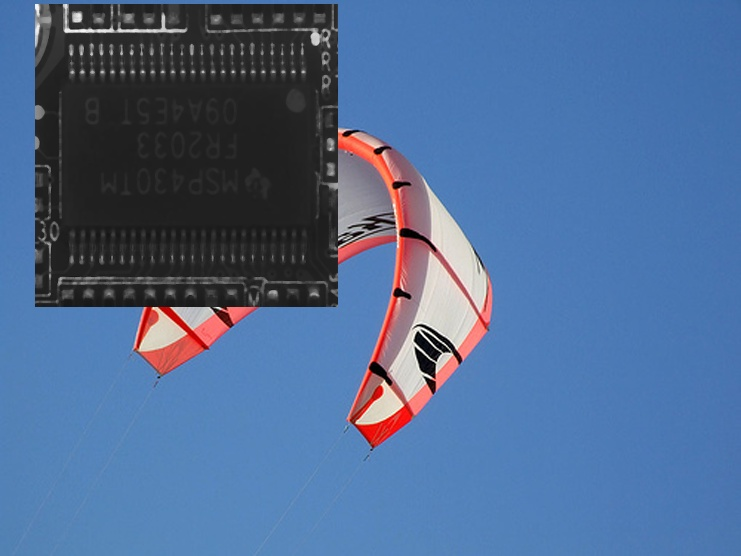PIN: (57, 36, 321, 94), (56, 212, 320, 270)
kite: (137, 127, 494, 455)
